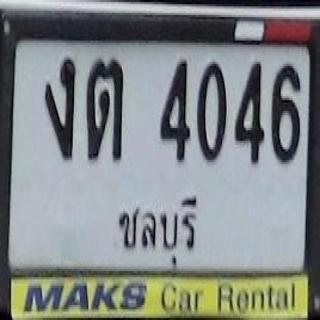A07: (39, 50, 82, 166)
A21: (80, 51, 129, 165)
N00: (193, 54, 232, 165)
N04: (154, 53, 194, 166), (231, 54, 267, 168)
N06: (269, 57, 302, 166)
P13: (115, 188, 206, 269)
